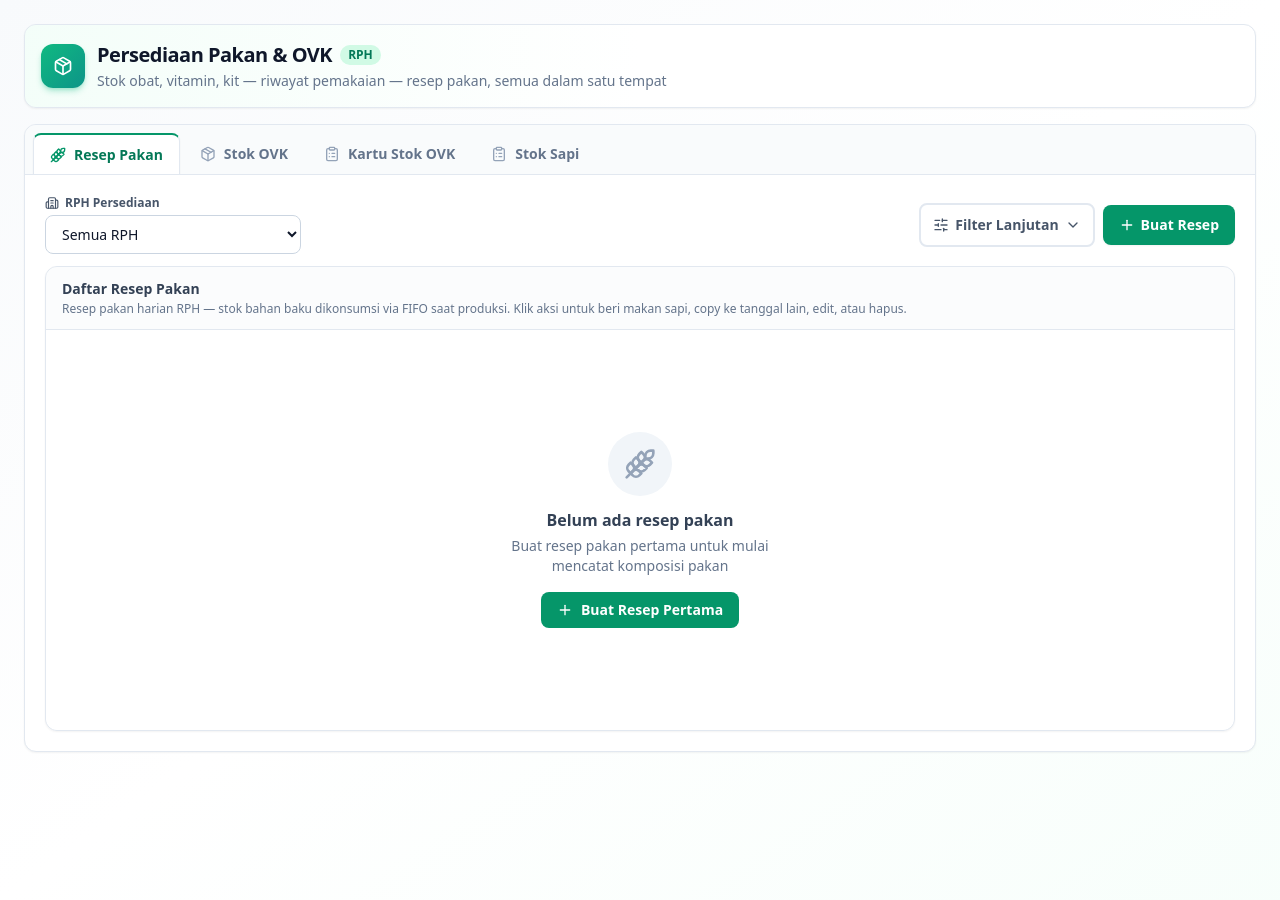
Test: office stays shared across real tab filter regions, outside the page header
The image size is (1280, 900).
Select "RPH A" in the dropdown labelled "RPH Persediaan". click: [173, 234]
box: [45,215,301,254]
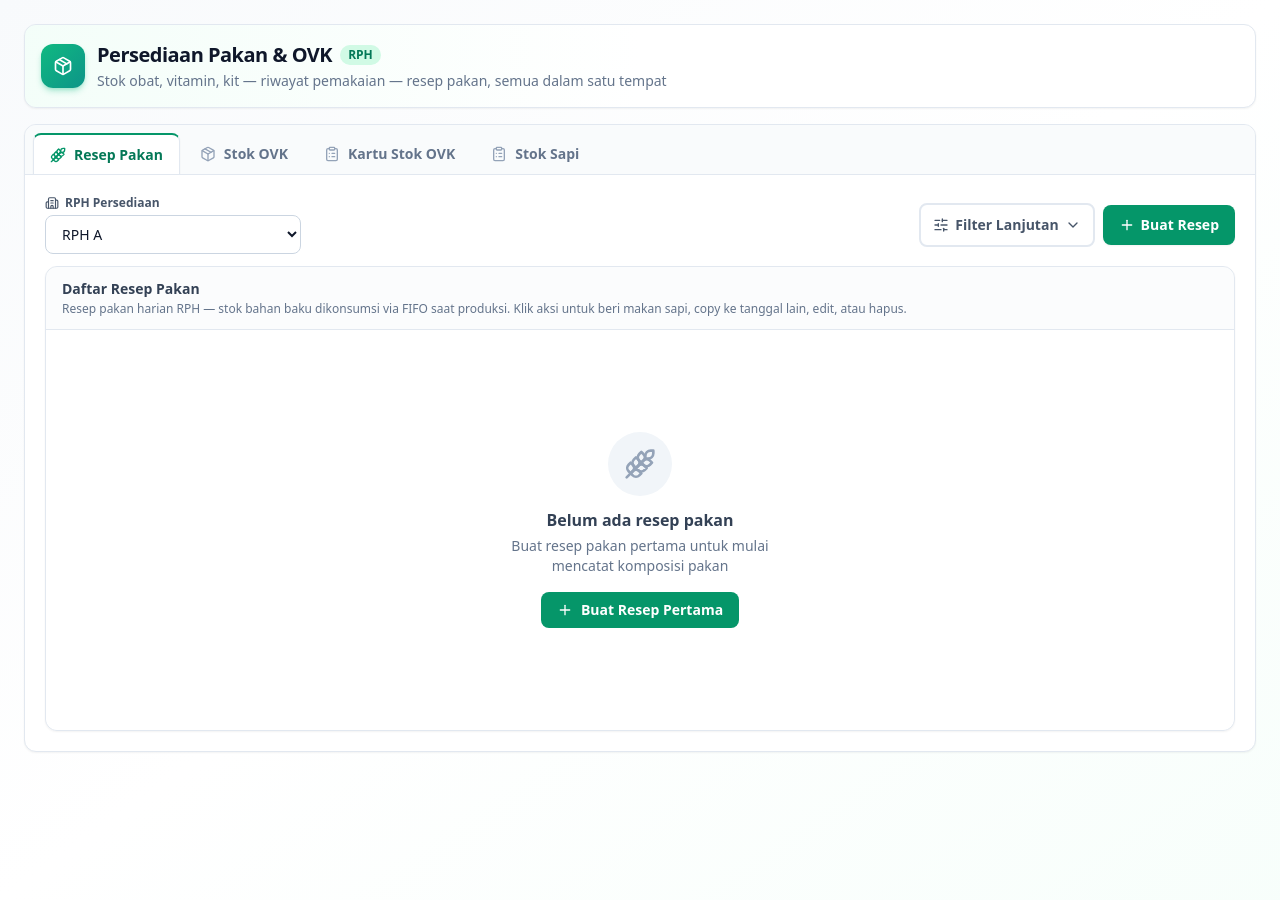
Click the button "Stok OVK". click: [244, 154]
box: [184,134,304,174]
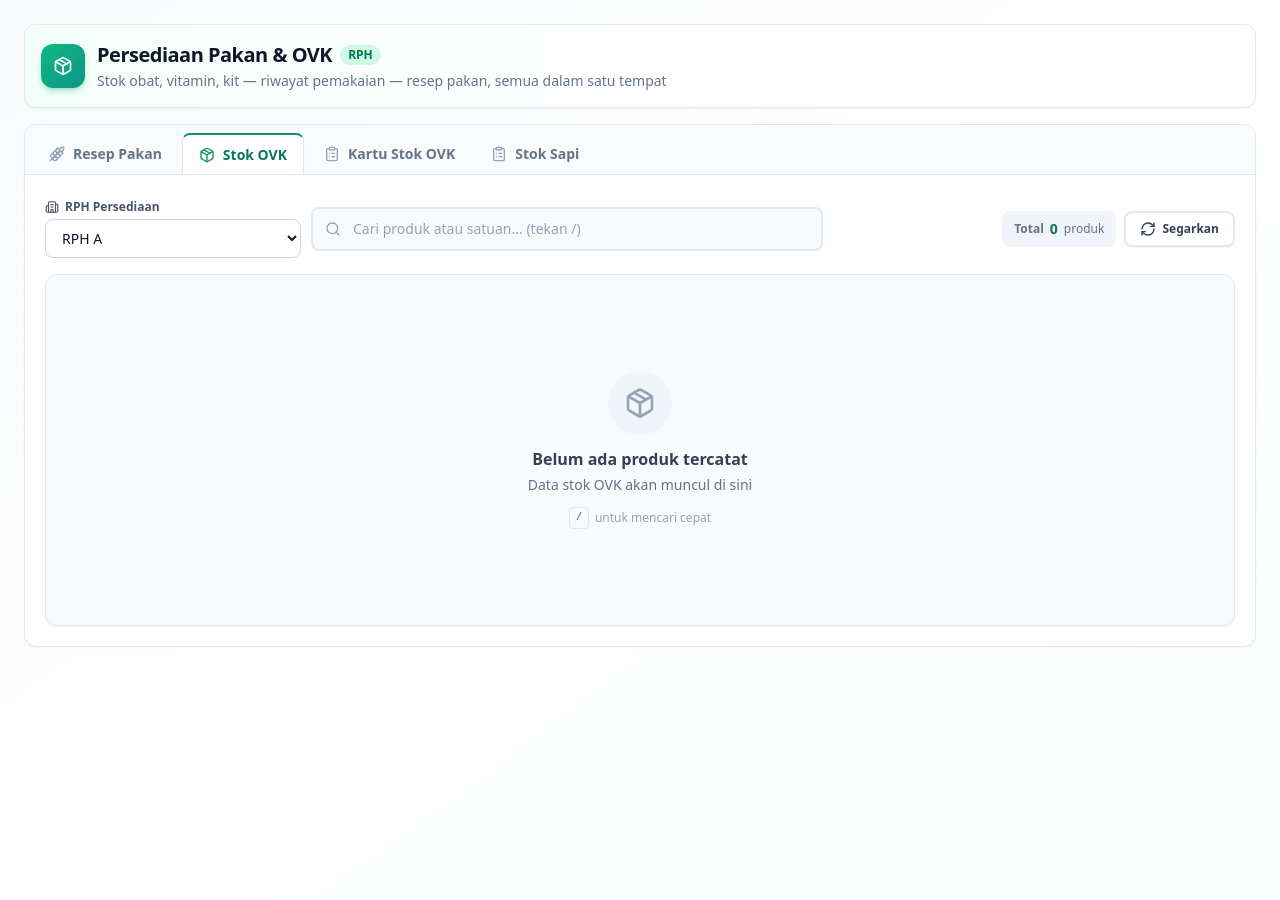
Expected: the number of dropdowns labelled "RPH Persediaan" is 1, [45,219,301,258]
Now the dropdown labelled "RPH Persediaan" shows "RPH A", box [45,219,301,258]
Click the button "Kartu Stok OVK". click: [390, 154]
box: [308,134,471,174]
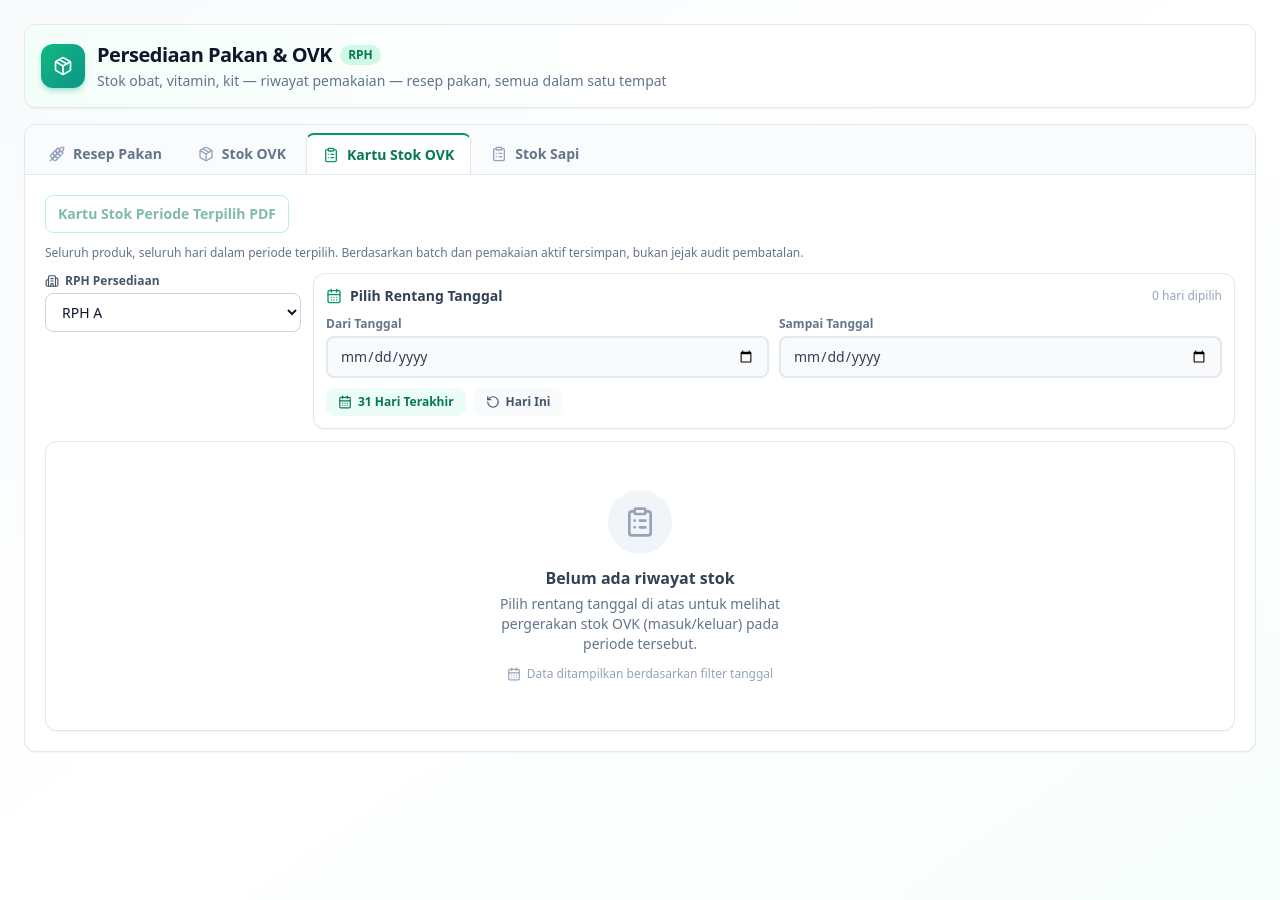
Expected: the number of dropdowns labelled "RPH Persediaan" is 1, [45,293,301,332]
Now the dropdown labelled "RPH Persediaan" shows "RPH A", box [45,293,301,332]
Click the button "Stok Sapi". click: [535, 154]
box: [475,134,595,174]
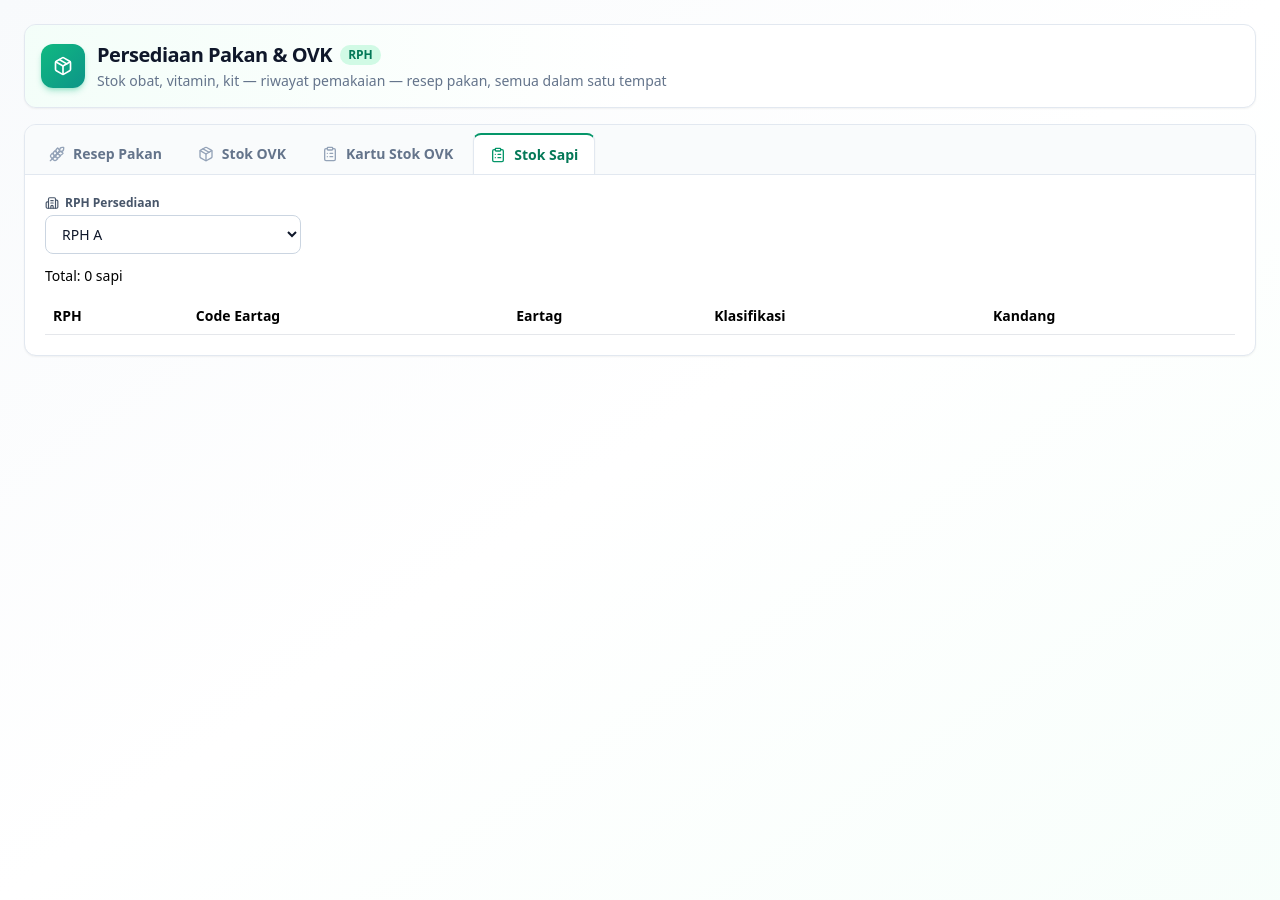
Expected: the number of dropdowns labelled "RPH Persediaan" is 1, [45,215,301,254]
Now the dropdown labelled "RPH Persediaan" shows "RPH A", box [45,215,301,254]
Now the text "Total: 0 sapi" is shown, box [45,266,123,285]
Click the button "Resep Pakan". click: [105, 154]
box: [33,134,178,174]
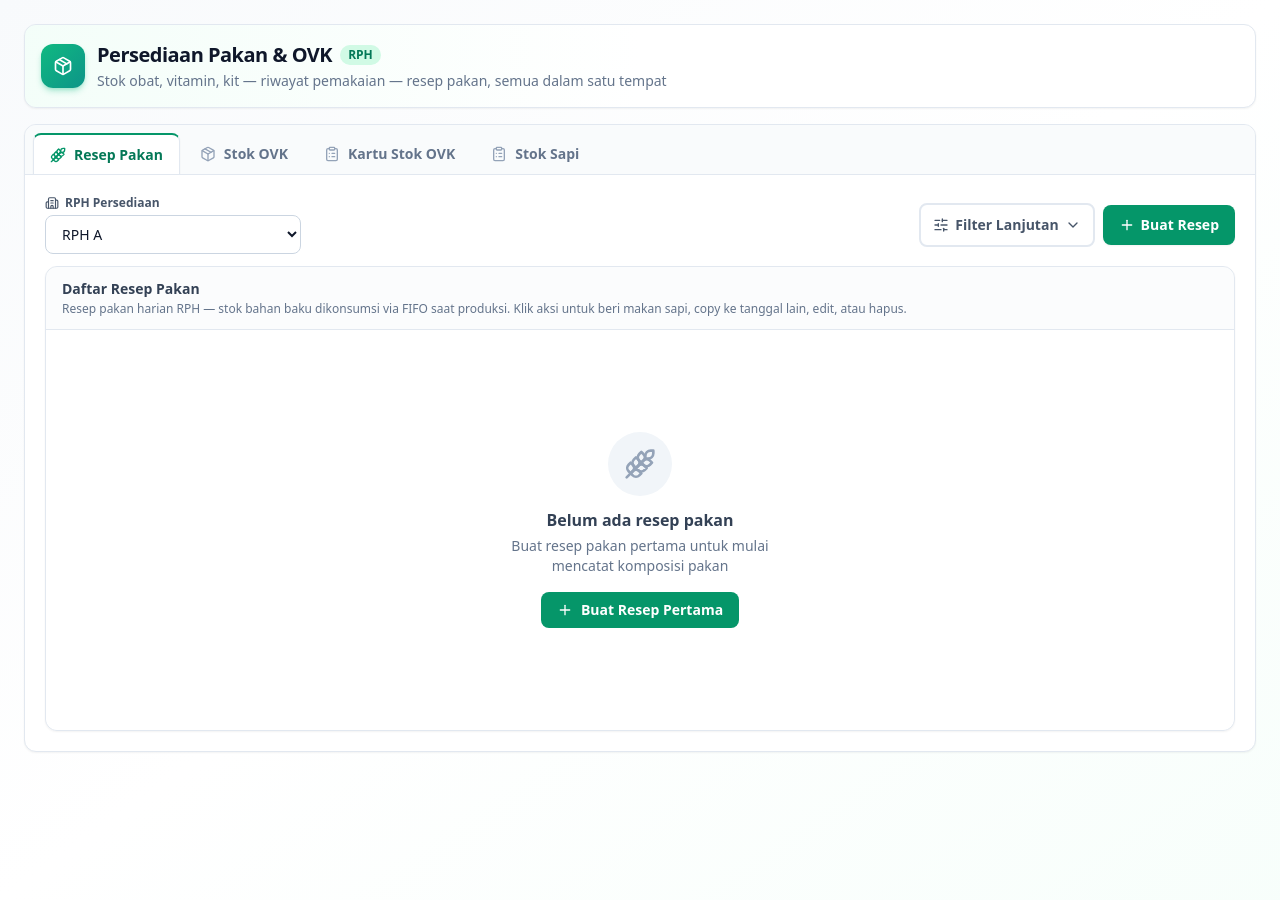
Now the dropdown labelled "RPH Persediaan" shows "RPH A"
Select "Semua RPH" in the dropdown labelled "RPH Persediaan". click: [173, 234]
box: [45,215,301,254]
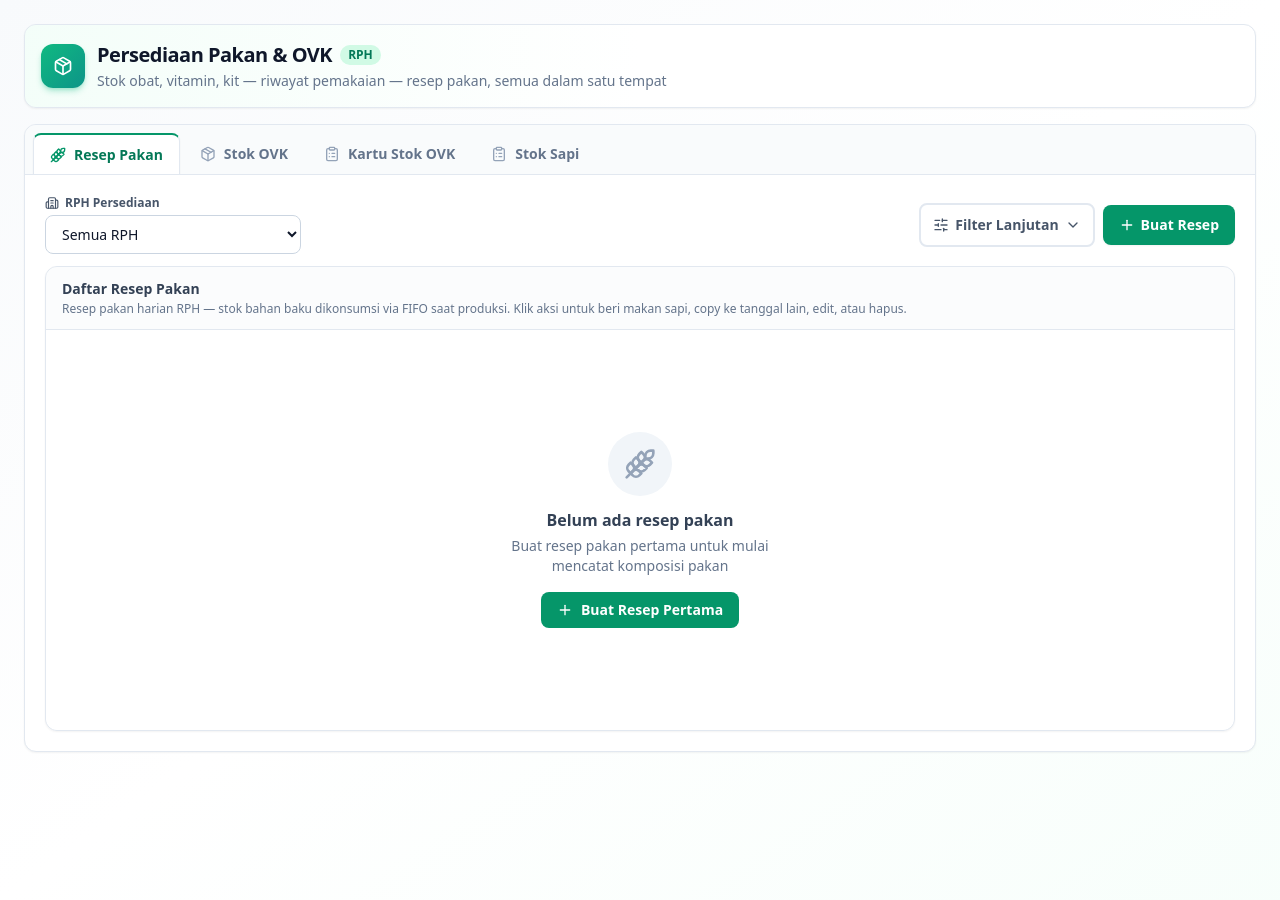
Now the dropdown labelled "RPH Persediaan" shows "Semua RPH", box [45,215,301,254]
